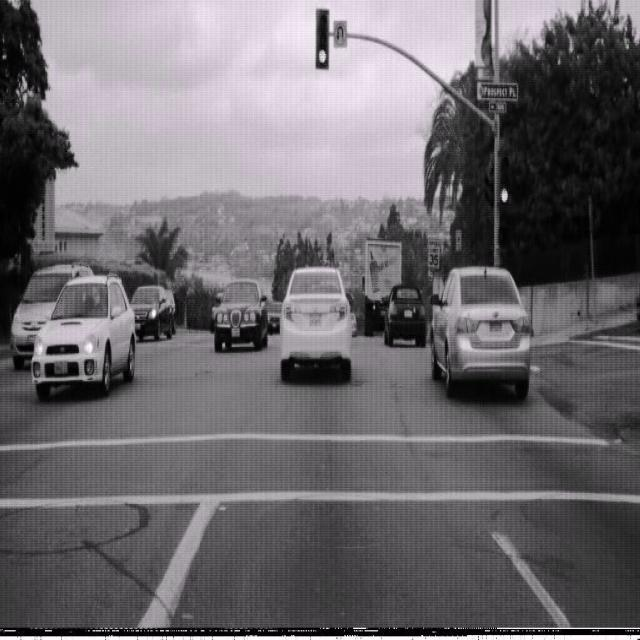speedLimit35: (426, 234, 441, 270)
